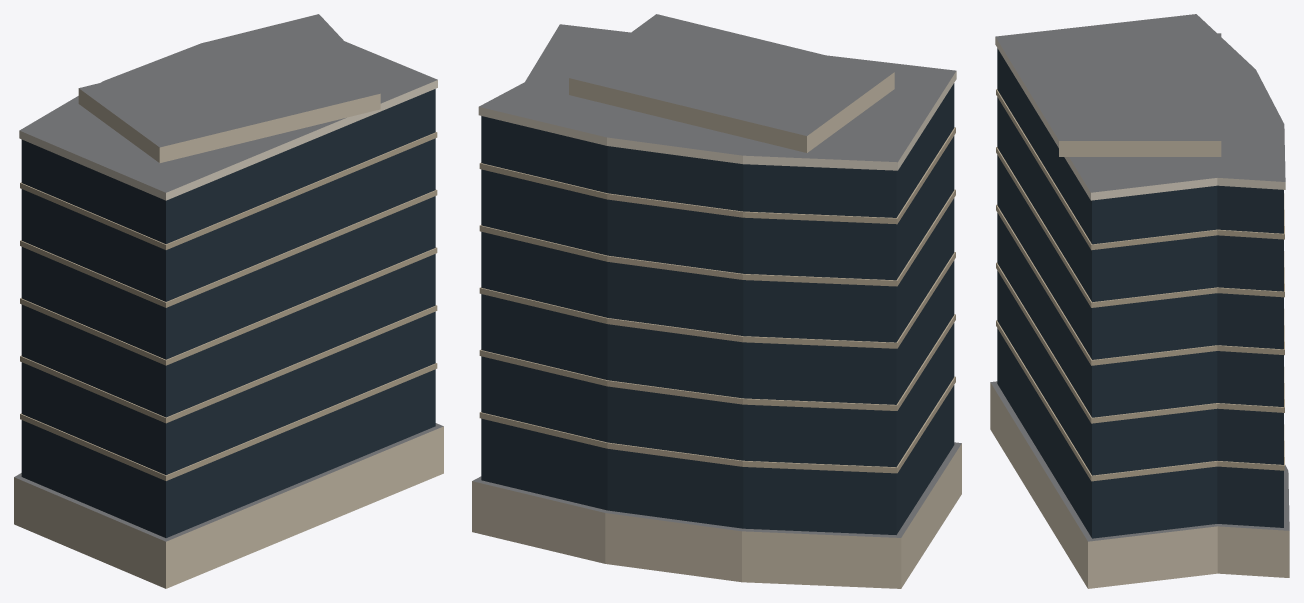
Rendered from bldg_w397861269.glb.
3 renders of one model, left to right at view 1: azimuth 30°, elevation 25°; view 2: azimuth 150°, elevation 25°; view 3: azimuth 270°, elevation 25°, orthographic. The views are drawn at different scales.
Visible parts, largest first — view 1: Bldg_w397861269; view 2: Bldg_w397861269; view 3: Bldg_w397861269.
Boxes of the visible parts, x1=… form: Bldg_w397861269: x1=14, y1=14, x2=443, y2=588; Bldg_w397861269: x1=472, y1=14, x2=961, y2=588; Bldg_w397861269: x1=990, y1=14, x2=1289, y2=588.
Size of the model in its own units: 74.66 by 78 by 51.64.
